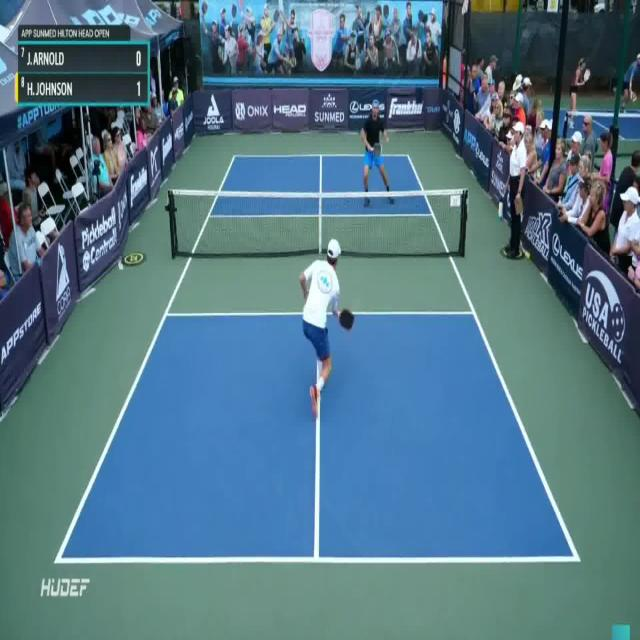Court: (54, 153, 580, 561)
